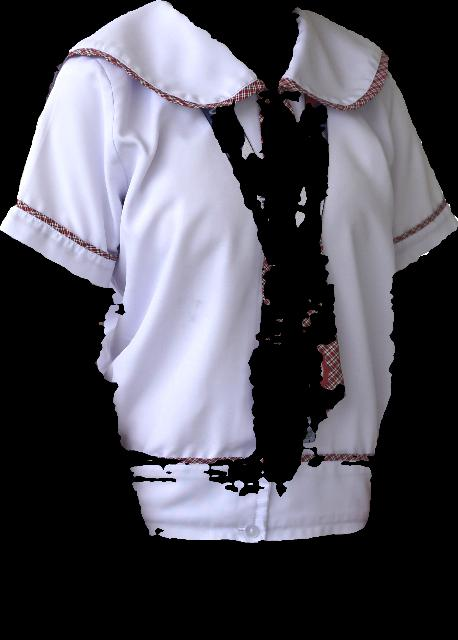pologirl: (0, 0, 457, 542)
